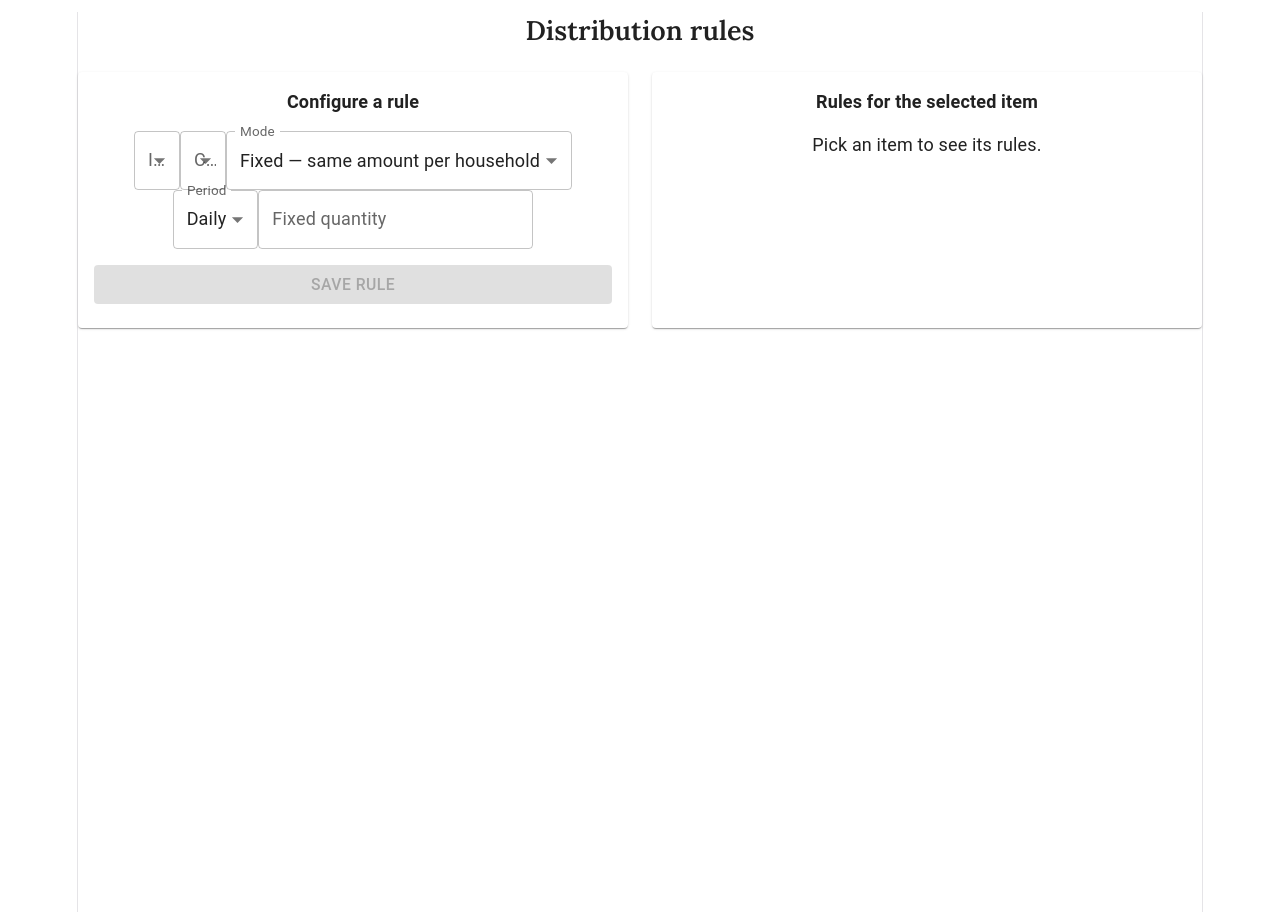
DistributionRulesPage › shows a camp-specific rule with the camp’s own name, and a global rule as the default
Click the 1st dropdown named "item".
click(157, 160)  # box x1=134 y1=131 x2=180 y2=190
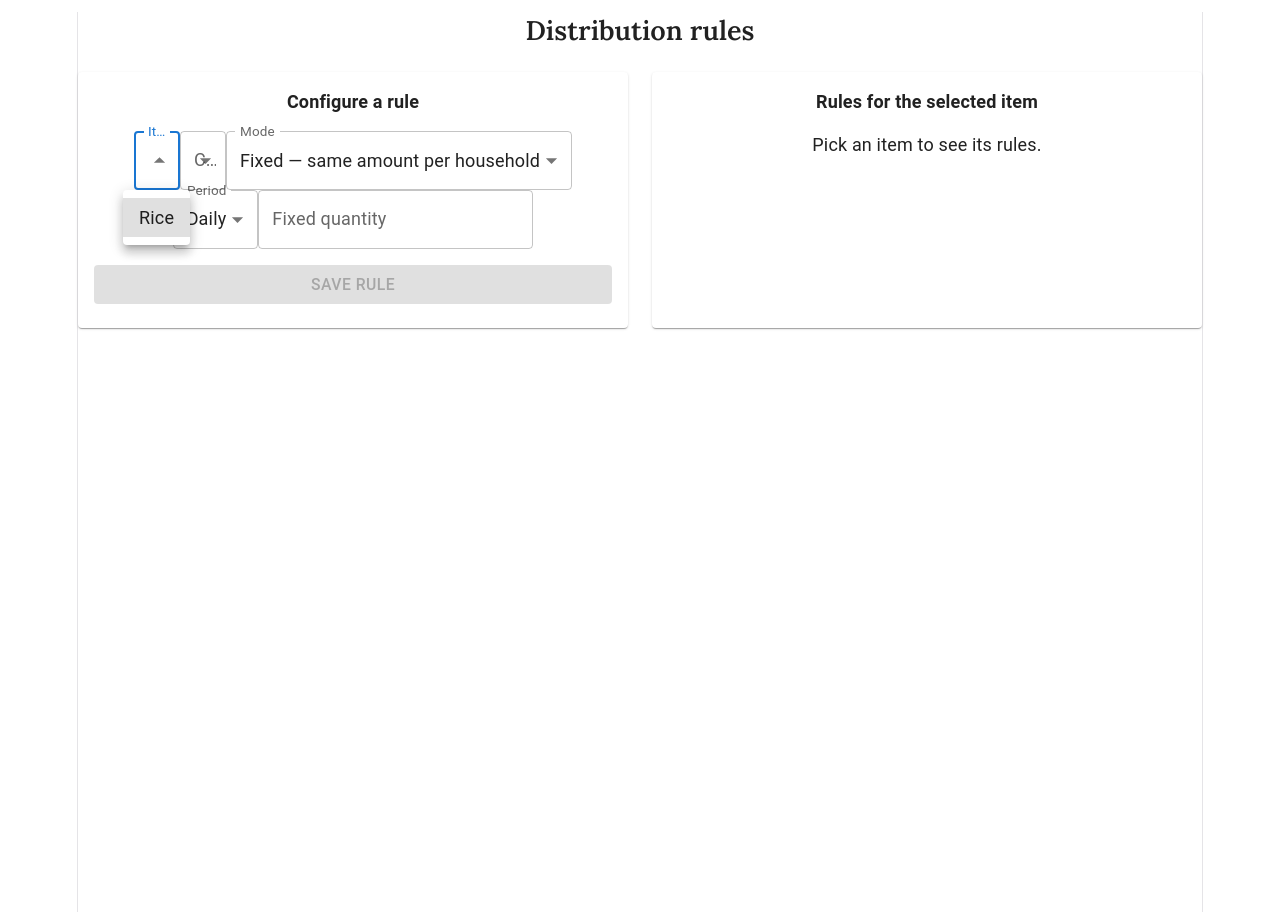
Click the option "Rice".
click(157, 218)  # box x1=123 y1=198 x2=190 y2=237
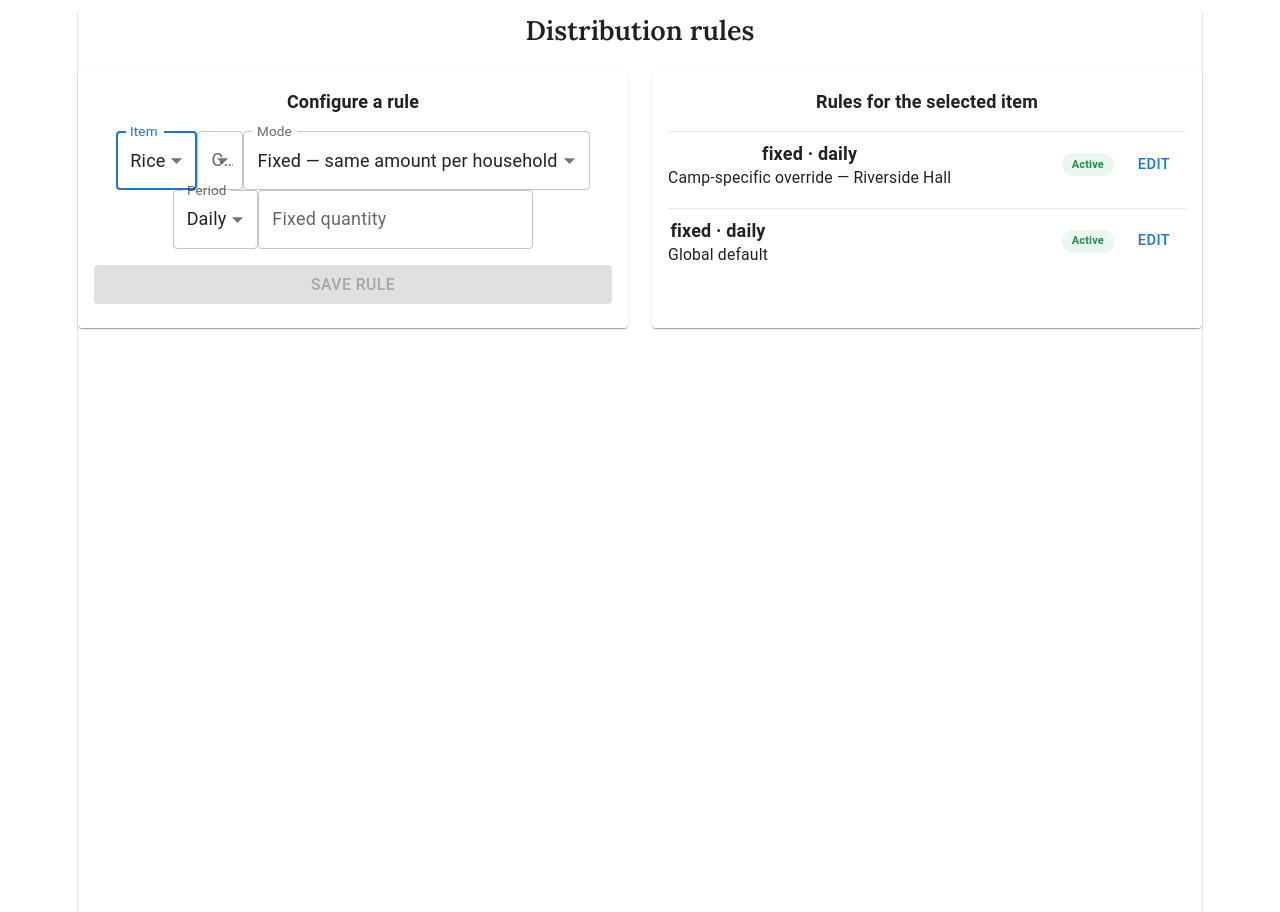
Result: the text "Camp-specific override — Riverside Hall" is shown at x1=668 y1=167 x2=951 y2=190
Result: the text "Global default" is shown at x1=668 y1=244 x2=768 y2=266
